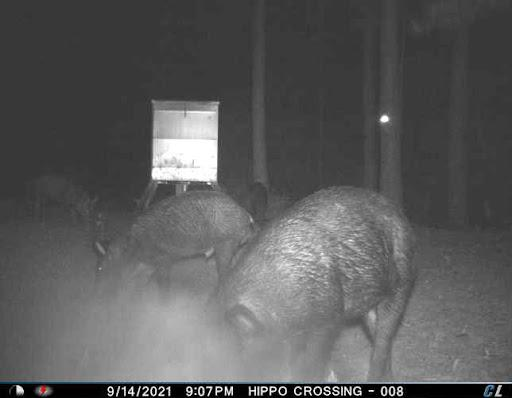Hog: (201, 171, 425, 392), (94, 185, 256, 292), (16, 170, 99, 224)
